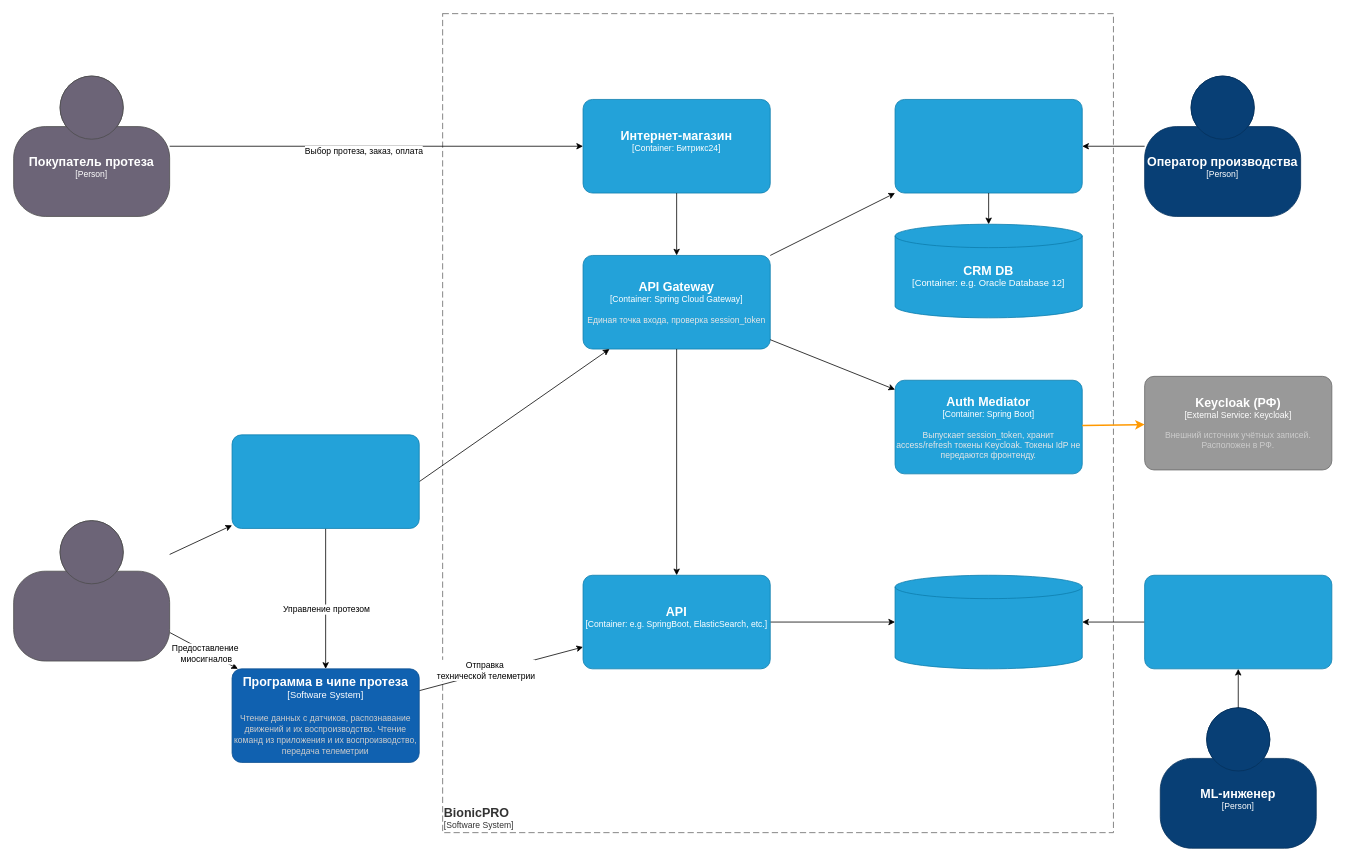
This 1346x862 diagram has some shape labels left out. Each missing label, with the centre of its shape:
"cli tool [Container: e.g. SpringBoot, ElasticSearch, etc.]" belongs at point (1238, 621).
"CRM [Container: Битрикс24]" belongs at point (988, 146).
"База данных [Container: PostgreSQL]" belongs at point (988, 621).
"Пилот протеза [Person] С этого человека считываются данные" belongs at point (91, 590).
"Приложение для донастройки протеза [Container: iOD, Android]" belongs at point (325, 481).
